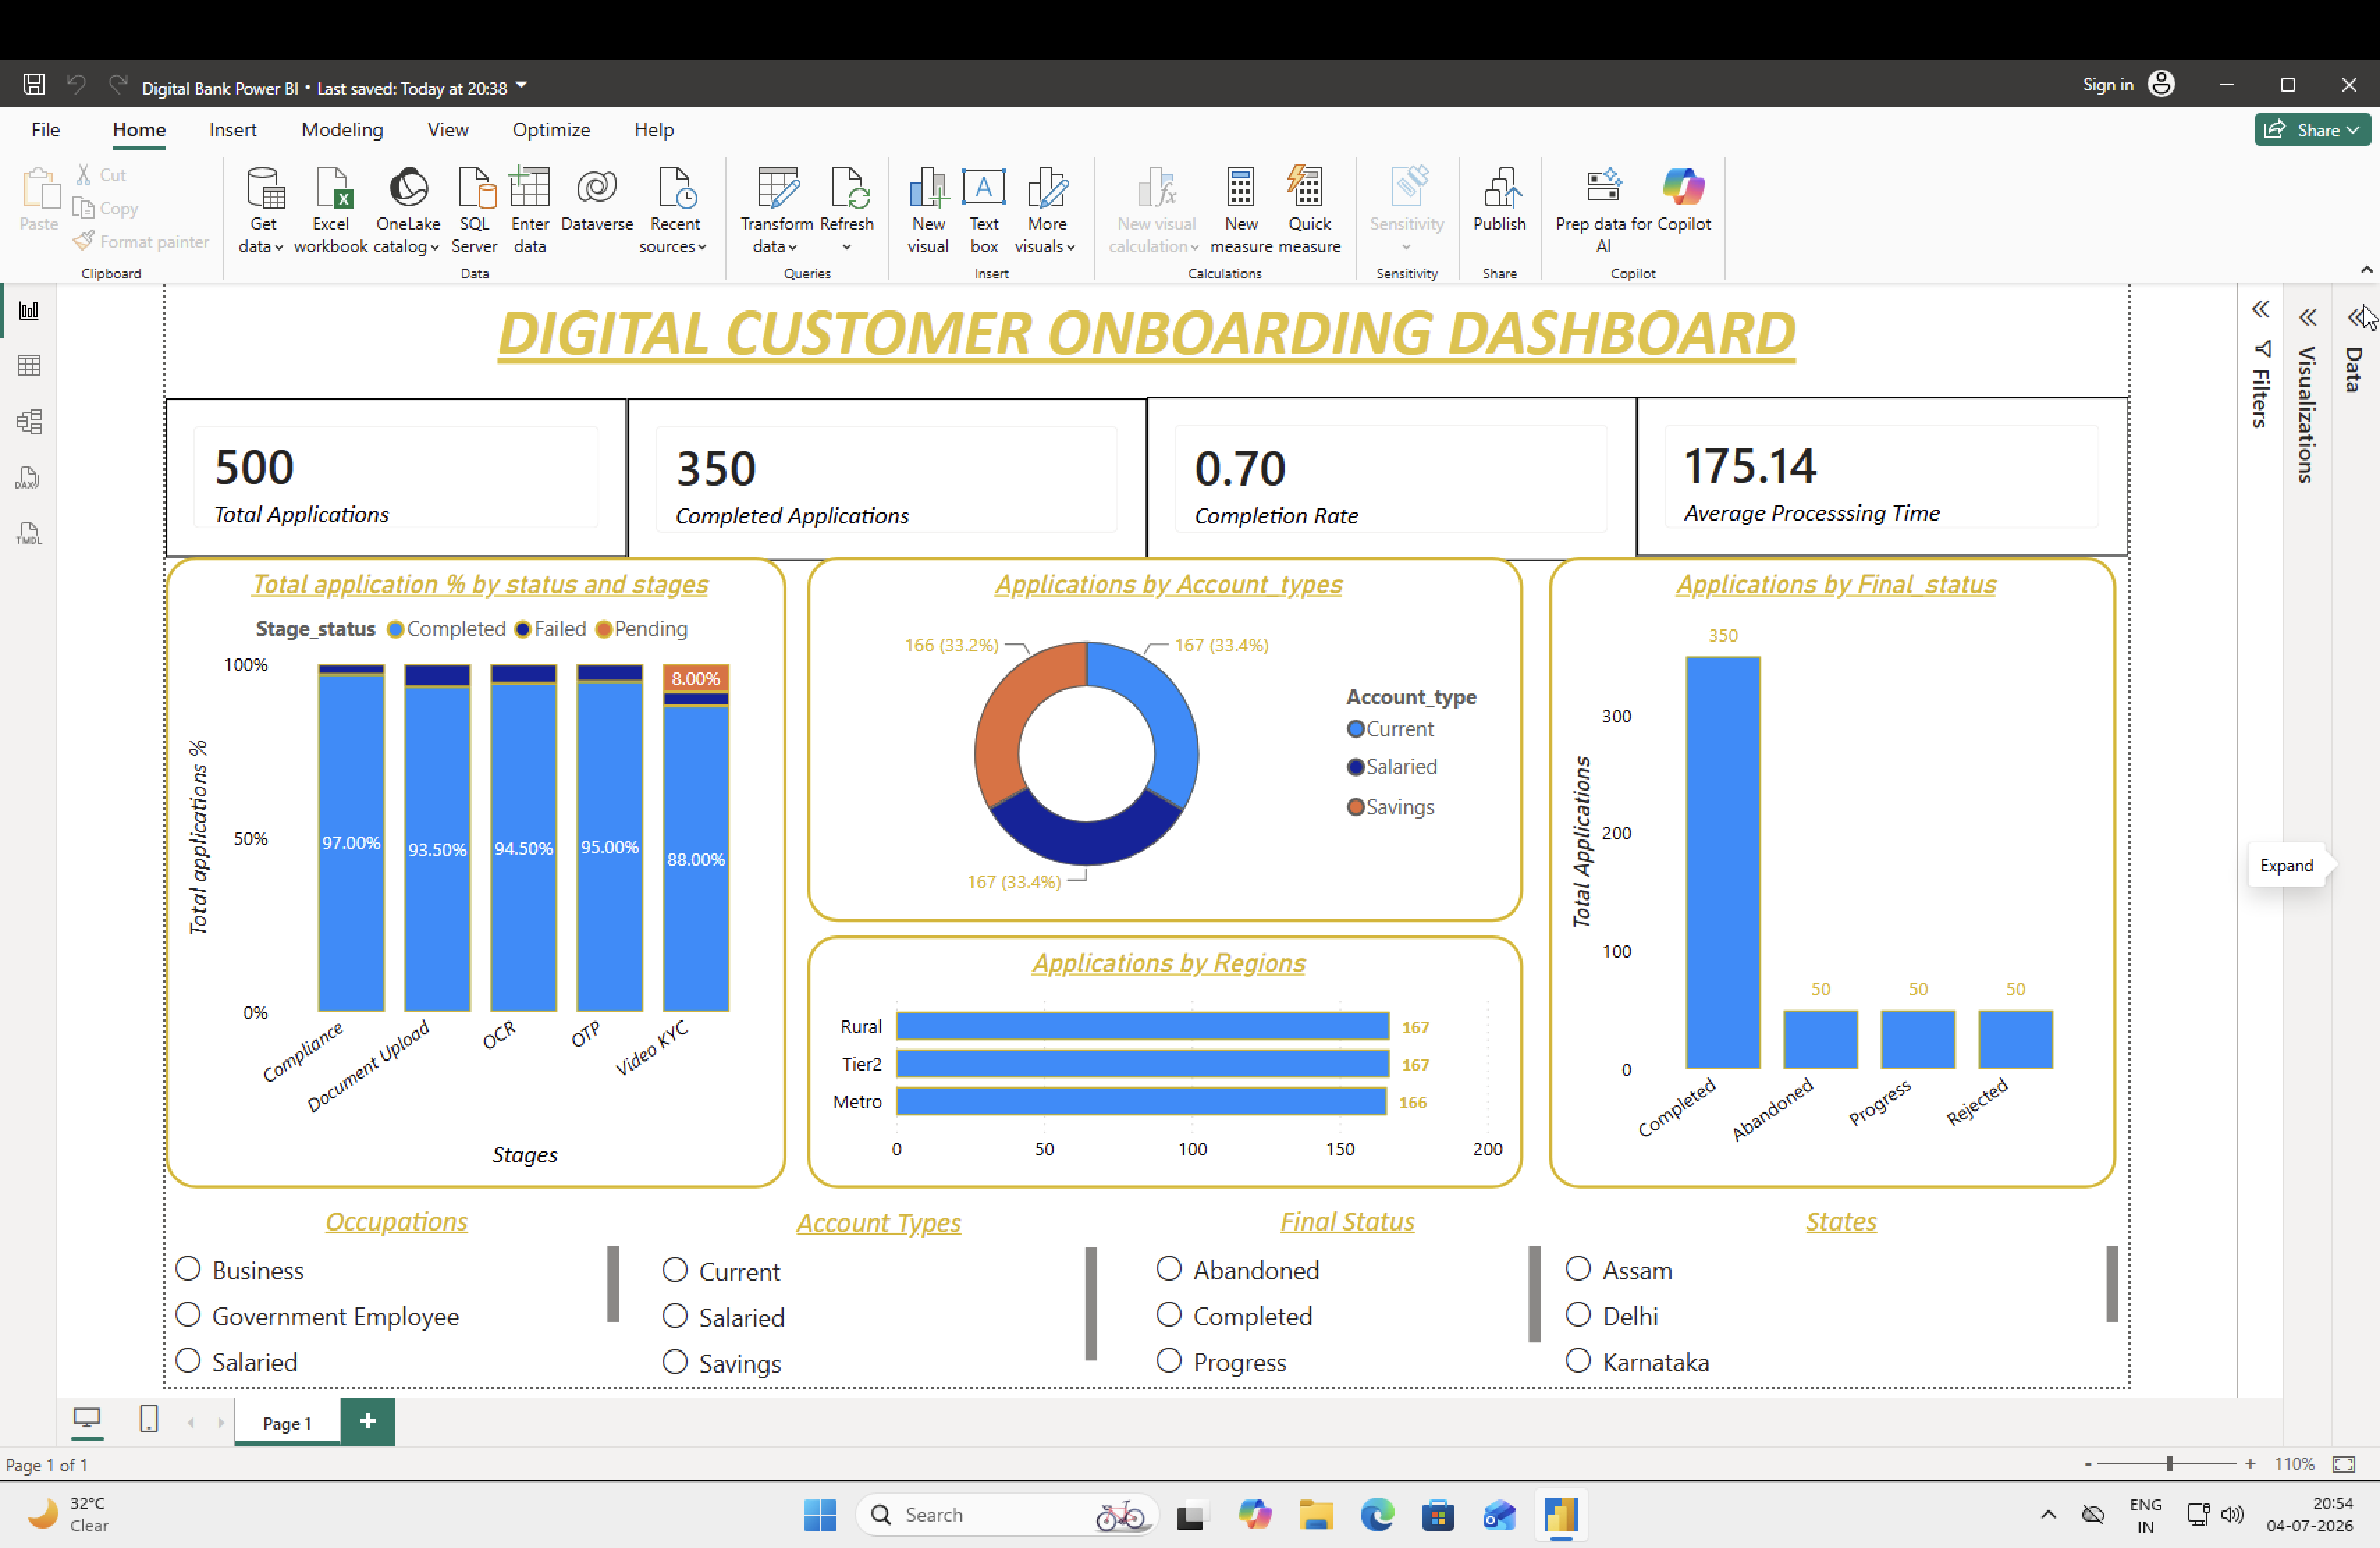

Layout of this report page (visuals, bound fields, positions):
{"tool":"powerbi","page":{"name":"Page 1","canvas":[1280,720],"ordinal":0},"visuals":[{"type":"cardVisual","fields":{"Data":["Applications.Total Applications"]},"box":[0,75.4,301.4,103.5],"z":0},{"type":"cardVisual","fields":{"Data":["Applications.Completed Applications"]},"box":[301.4,75.4,338.7,106.2],"z":1000},{"type":"cardVisual","fields":{"Data":["Applications.Completion Rate"]},"box":[640.1,74.5,319.6,107.1],"z":2000},{"type":"cardVisual","fields":{"Data":["Applications.Average Processsing Time"]},"box":[959.7,74.5,320.5,104.4],"z":3000},{"type":"clusteredColumnChart","title":"Applications by Final_status","fields":{"Category":["Applications.Final_status"],"Y":["CountNonNull(Applications.Application_id)"]},"box":[902.5,178.9,369.5,412.2],"z":4000},{"type":"donutChart","title":"Applications by Account_types","fields":{"Y":["CountNonNull(Applications.Application_id)"],"Category":["Applications.Account_type"]},"box":[418.6,178.9,466.7,237.9],"z":4001},{"type":"hundredPercentStackedColumnChart","title":"Total application % by status and stages","fields":{"Category":["Application_journey.Stage_name"],"Y":["CountNonNull(Application_journey.Journey_id)"],"Series":["Application_journey.Stage_status"]},"box":[0,178.9,404.9,412.2],"z":4002},{"type":"clusteredBarChart","title":"Applications by Regions","fields":{"Category":["Customers.Region"],"Y":["CountNonNull(Applications.Application_id)"]},"box":[418.6,425.8,466.7,165.2],"z":4003},{"type":"listSlicer","title":"States","fields":{"Values":["Customers.State"]},"box":[907.3,599.8,372.7,120.6],"z":4004},{"type":"listSlicer","title":"Occupations","fields":{"Values":["Customers.Occupation"]},"box":[0,599.8,301.4,120.6],"z":4005},{"type":"listSlicer","title":"Final Status","fields":{"Values":["Applications.Final_status"]},"box":[640,599.8,262.2,120.6],"z":4006},{"type":"listSlicer","title":"Account Types","fields":{"Values":["Applications.Account_type"]},"box":[317.5,600.8,295.4,119.6],"z":4007},{"type":"textbox","box":[0,0,1280.2,63.6],"z":4008}]}

Visuals, with their boxes on the page's 1280x720 design canvas (x1, y1, x2, y2). These are canvas units, not pixel positions in the 2380x1548 screenshot, which may show the page scaled, cropped or inside an application window:
cardVisual - Applications.Total Applications: l=0, t=75, r=301, b=179
cardVisual - Applications.Completed Applications: l=301, t=75, r=640, b=182
cardVisual - Applications.Completion Rate: l=640, t=74, r=960, b=182
cardVisual - Applications.Average Processsing Time: l=960, t=74, r=1280, b=179
"Applications by Final_status" clusteredColumnChart: l=902, t=179, r=1272, b=591
"Applications by Account_types" donutChart: l=419, t=179, r=885, b=417
"Total application % by status and stages" hundredPercentStackedColumnChart: l=0, t=179, r=405, b=591
"Applications by Regions" clusteredBarChart: l=419, t=426, r=885, b=591
"States" listSlicer: l=907, t=600, r=1280, b=720
"Occupations" listSlicer: l=0, t=600, r=301, b=720
"Final Status" listSlicer: l=640, t=600, r=902, b=720
"Account Types" listSlicer: l=318, t=601, r=613, b=720
textbox: l=0, t=0, r=1280, b=64
